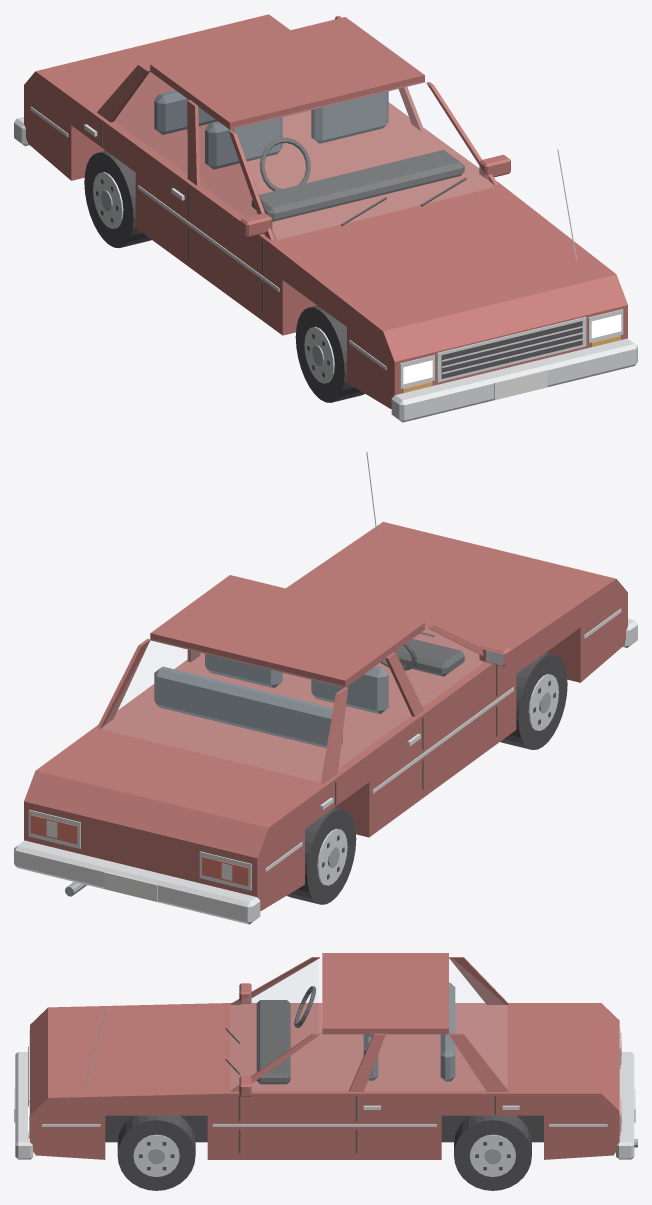
The model's file is car_sedan_r.glb.
3 views of the same model, one above another, from view 1: azimuth 30°, elevation 25°; view 2: azimuth 150°, elevation 25°; view 3: azimuth 270°, elevation 25° (orthographic). The views are drawn at different scales.
Visible parts, largest first — view 1: car_sedan_r_car_r, car_sedan_r_glass, car_sedan_r_chrome, car_sedan_r_dark, car_sedan_r_vinyl, car_sedan_r_rubber, car_sedan_r_lamp_glass, car_sedan_r_paint_w; view 2: car_sedan_r_car_r, car_sedan_r_glass, car_sedan_r_chrome, car_sedan_r_vinyl, car_sedan_r_rubber, car_sedan_r_dark, car_sedan_r_neon_r, car_sedan_r_paint_w; view 3: car_sedan_r_car_r, car_sedan_r_glass, car_sedan_r_rubber, car_sedan_r_chrome, car_sedan_r_dark, car_sedan_r_vinyl, car_sedan_r_steel.
Boxes of the visible parts, bbox=[...] form: car_sedan_r_car_r: bbox=[24, 14, 627, 408]; car_sedan_r_glass: bbox=[115, 72, 492, 239]; car_sedan_r_chrome: bbox=[14, 106, 637, 422]; car_sedan_r_dark: bbox=[96, 122, 582, 378]; car_sedan_r_vinyl: bbox=[154, 90, 388, 169]; car_sedan_r_rubber: bbox=[84, 150, 364, 402]; car_sedan_r_lamp_glass: bbox=[403, 314, 621, 384]; car_sedan_r_paint_w: bbox=[494, 370, 547, 399]; car_sedan_r_car_r: bbox=[24, 522, 627, 910]; car_sedan_r_glass: bbox=[103, 626, 482, 781]; car_sedan_r_chrome: bbox=[14, 451, 637, 924]; car_sedan_r_vinyl: bbox=[154, 654, 388, 748]; car_sedan_r_rubber: bbox=[287, 652, 567, 904]; car_sedan_r_dark: bbox=[322, 632, 555, 879]; car_sedan_r_neon_r: bbox=[30, 815, 248, 886]; car_sedan_r_paint_w: bbox=[46, 820, 232, 901]; car_sedan_r_car_r: bbox=[30, 953, 619, 1159]; car_sedan_r_glass: bbox=[230, 959, 506, 1089]; car_sedan_r_rubber: bbox=[105, 1115, 543, 1190]; car_sedan_r_chrome: bbox=[15, 1008, 634, 1176]; car_sedan_r_dark: bbox=[28, 986, 510, 1170]; car_sedan_r_vinyl: bbox=[363, 982, 455, 1081]; car_sedan_r_steel: bbox=[148, 1139, 637, 1164].
Bounding box in the file's own units: 2 × 1.6 × 5.12.
